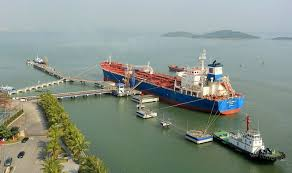tau_dansu: (98, 47, 254, 115), (214, 115, 286, 163)
